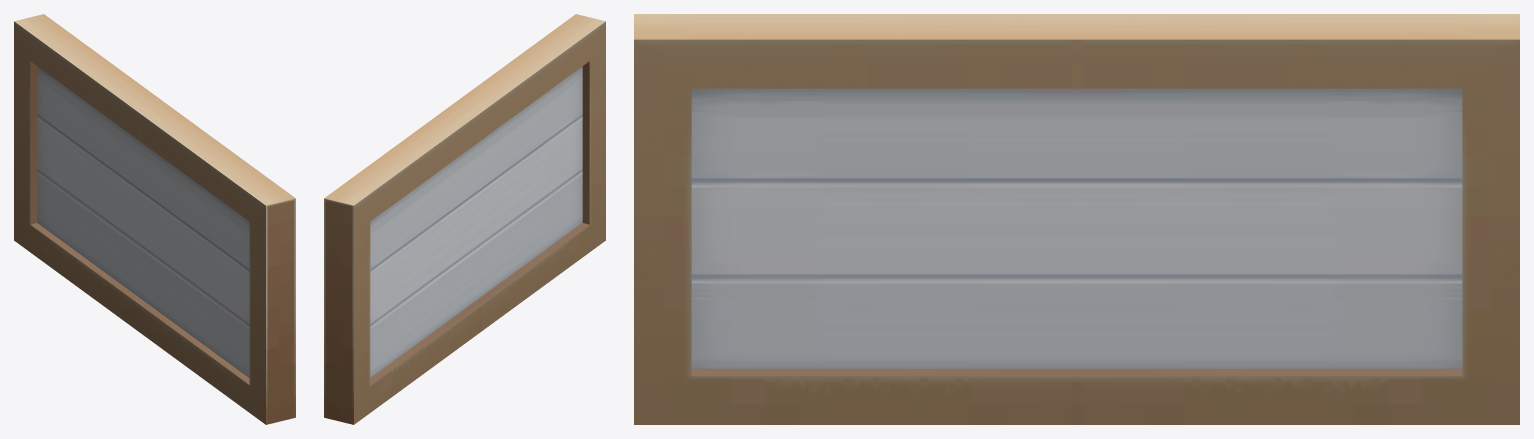
The model's file is my_seahouse_01_partition_02.glb.
The picture shows the model from 3 angles, left to right: view 1: azimuth 30°, elevation 25°; view 2: azimuth 150°, elevation 25°; view 3: azimuth 270°, elevation 25°; orthographic projection. The views are drawn at different scales.
Visible parts, largest first — view 1: my_seahouse_01_partition_02; view 2: my_seahouse_01_partition_02; view 3: my_seahouse_01_partition_02.
Boxes of the visible parts, x1=… form: my_seahouse_01_partition_02: x1=14, y1=14, x2=295, y2=424; my_seahouse_01_partition_02: x1=324, y1=14, x2=605, y2=424; my_seahouse_01_partition_02: x1=634, y1=14, x2=1519, y2=424.
Size of the model in its own units: 0.000822 by 0.00576 by 0.012.
Materials: 1 (1 with a texture image).
